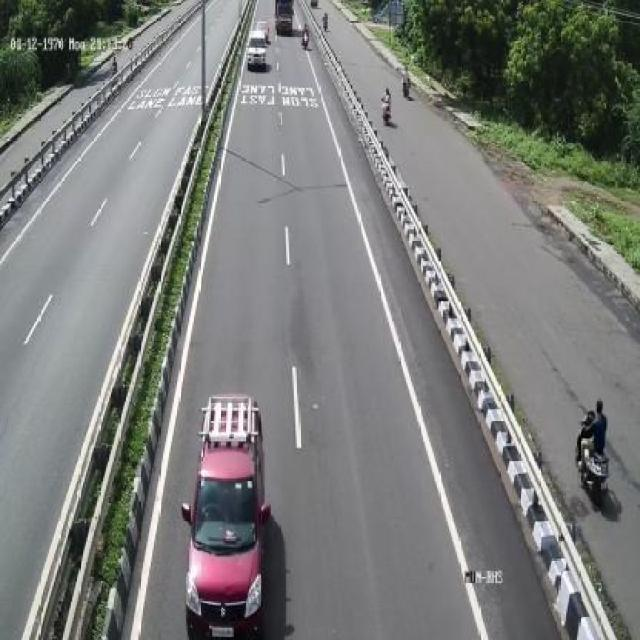car: (192, 386, 262, 631), (574, 399, 617, 506)
